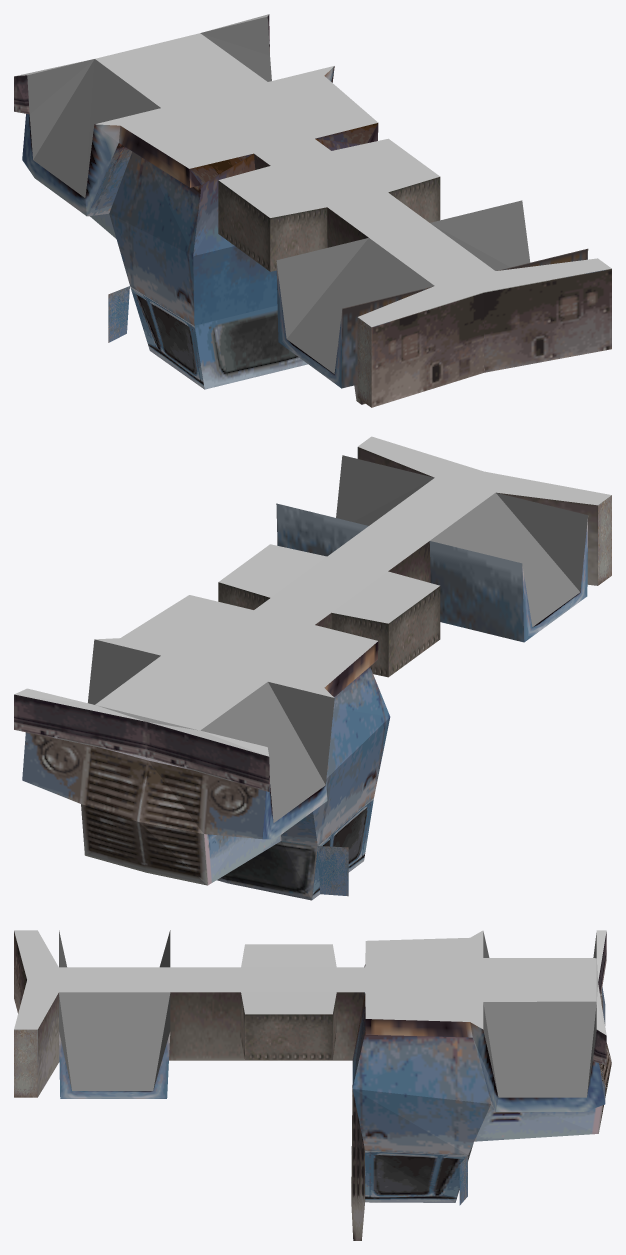
File: RIO_model12_damaged.obj
3 views of the same model, one above another, from view 1: azimuth 30°, elevation 25°; view 2: azimuth 150°, elevation 25°; view 3: azimuth 270°, elevation 25° (orthographic). The views are drawn at different scales.
Parts seen in each view (by area): view 1: RIO_model12_damaged; view 2: RIO_model12_damaged; view 3: RIO_model12_damaged.
Part boxes in pixels (bbox=[...]): RIO_model12_damaged: bbox=[14, 14, 611, 407]; RIO_model12_damaged: bbox=[14, 436, 611, 900]; RIO_model12_damaged: bbox=[14, 930, 611, 1240].
Size of the model in its own units: 378 by 384 by 906.
